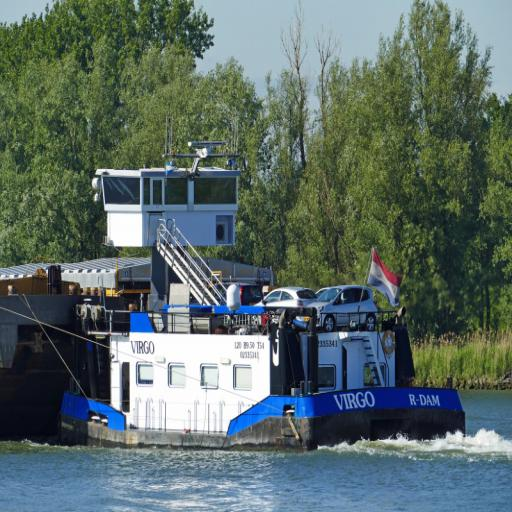tugboat: (49, 115, 474, 461)
